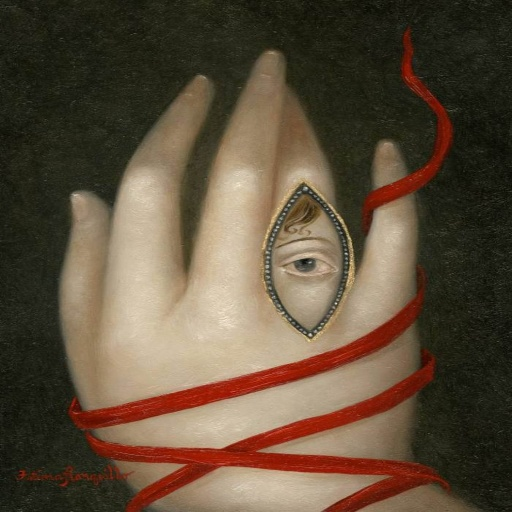hand: (58, 53, 364, 435)
